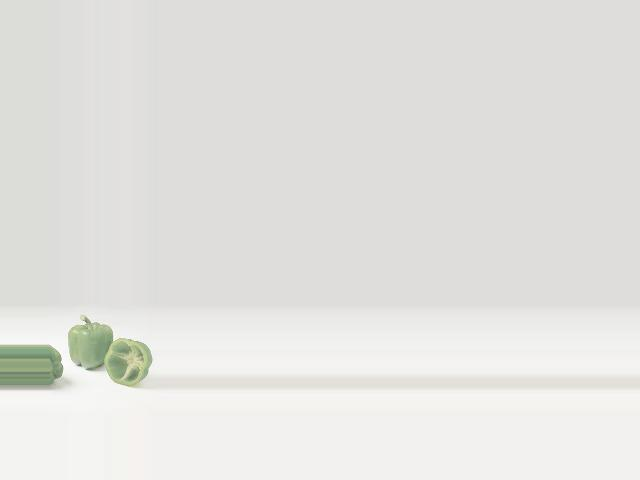bell_pepper: (101, 333, 154, 389)
